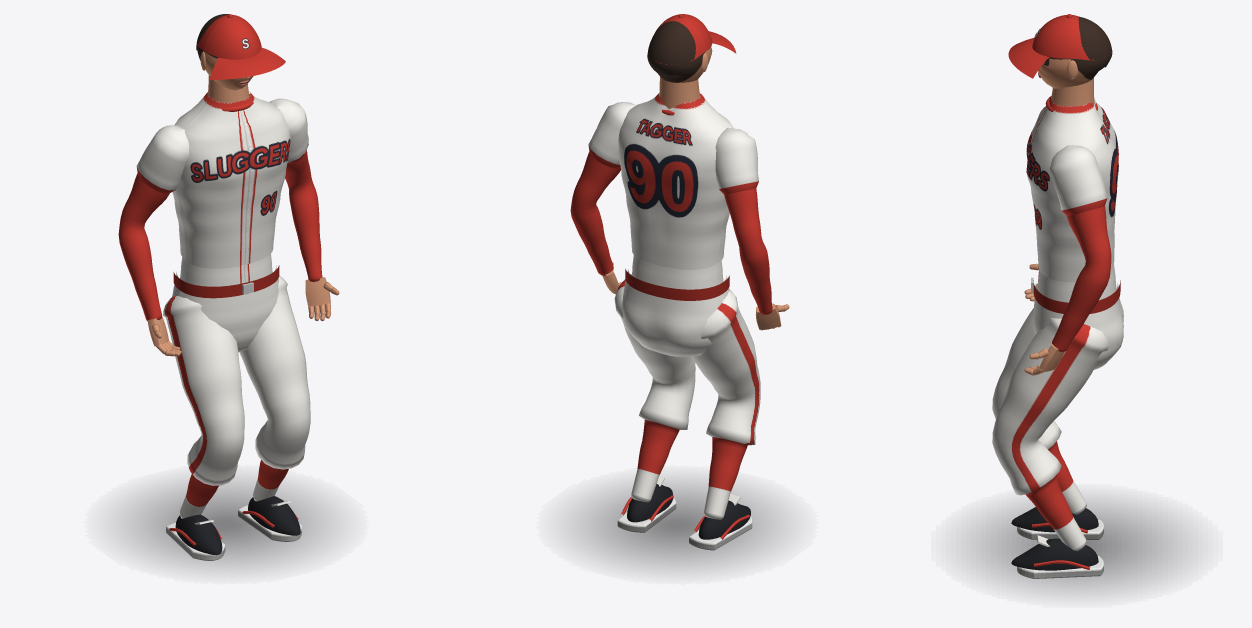
File: player_13_home.glb
3 renders of one model, left to right at view 1: azimuth 30°, elevation 25°; view 2: azimuth 150°, elevation 25°; view 3: azimuth 270°, elevation 25°, orthographic. The views are drawn at different scales.
Visible parts, largest first — view 1: player_13_home, object 30, object 32, object 2; view 2: player_13_home, object 29, object 2, object 30; view 3: player_13_home, object 30, object 29, object 34, object 32, object 2.
Part boxes in pixels (bbox=[...]): player_13_home: bbox=[117, 91, 334, 570]; object 30: bbox=[196, 14, 261, 59]; object 32: bbox=[209, 47, 285, 79]; object 2: bbox=[208, 75, 249, 102]; player_13_home: bbox=[569, 93, 785, 570]; object 29: bbox=[647, 21, 711, 76]; object 2: bbox=[659, 77, 700, 108]; object 30: bbox=[652, 14, 712, 64]; player_13_home: bbox=[966, 96, 1187, 592]; object 30: bbox=[1032, 14, 1112, 60]; object 29: bbox=[1049, 16, 1112, 67]; object 34: bbox=[1038, 58, 1103, 88]; object 32: bbox=[1008, 37, 1049, 78]; object 2: bbox=[1051, 77, 1094, 106].
Size of the model in its own units: 3.17 by 5.86 by 3.17.
Materials: 27 (5 with a texture image).
